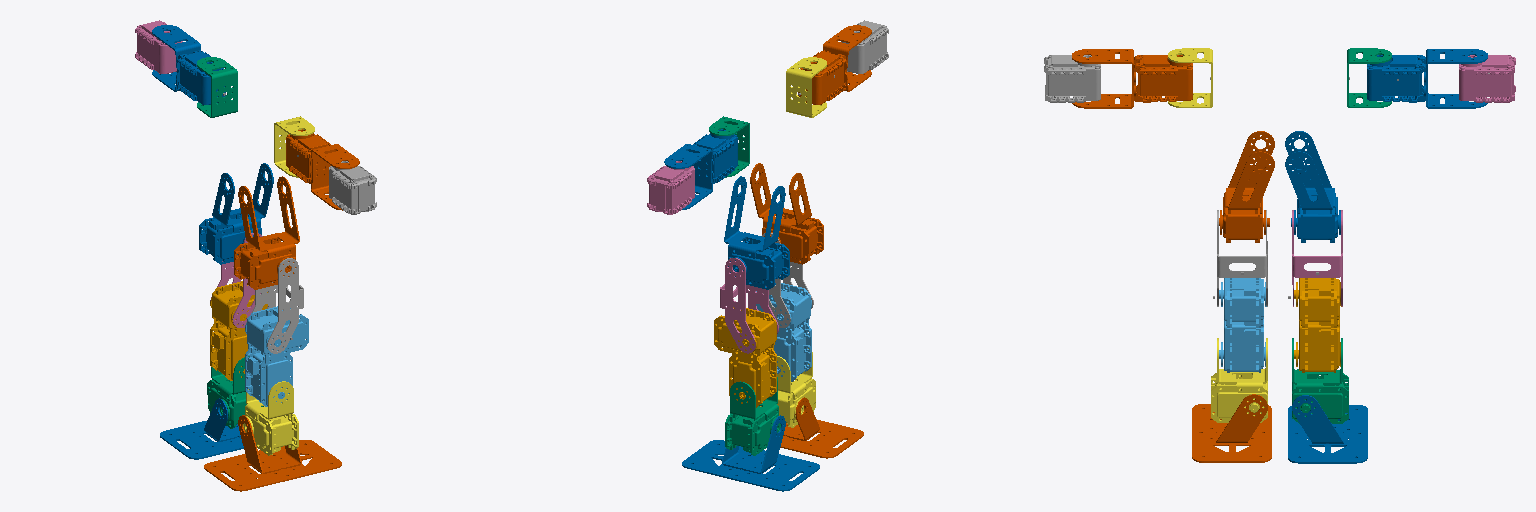
--- What the picture shows (computed from the rendered views, not written in the file) ---
3 views of the same robot in one strip: view 1: azimuth 30°, elevation 25°; view 2: azimuth 150°, elevation 25°; view 3: azimuth 270°, elevation 25° (orthographic).
Robot: nino — 26 links, 25 joints (16 revolute, 9 fixed); root link world; default pose: all joints at 0.
Links seen in each view (by area): view 1: right_foot_roll_link, right_hip_roll_link, right_knee_pitch_link, left_hip_roll_link, left_knee_pitch_link, right_shoulder_pitch_link, right_foot_pitch_link, left_shoulder_pitch_link, left_foot_roll_link, right_hip_pitch_link, right_elbow_pitch_link, left_shoulder_roll_link (+4 smaller); view 2: left_foot_roll_link, left_hip_roll_link, left_knee_pitch_link, right_hip_roll_link, left_shoulder_pitch_link, left_foot_pitch_link, right_knee_pitch_link, right_shoulder_pitch_link, right_foot_roll_link, left_hip_pitch_link, left_elbow_pitch_link, right_shoulder_roll_link (+4 smaller); view 3: left_foot_roll_link, right_foot_roll_link, right_shoulder_pitch_link, left_shoulder_pitch_link, left_knee_pitch_link, left_hip_roll_link, right_hip_roll_link, right_knee_pitch_link, left_elbow_pitch_link, right_elbow_pitch_link, left_foot_pitch_link, right_foot_pitch_link (+4 smaller).
Boxes of the visible links, x1=… form: right_foot_roll_link: x1=204, y1=415, x2=341, y2=491; right_hip_roll_link: x1=234, y1=176, x2=299, y2=289; right_knee_pitch_link: x1=245, y1=306, x2=308, y2=406; left_hip_roll_link: x1=199, y1=163, x2=273, y2=264; left_knee_pitch_link: x1=210, y1=281, x2=267, y2=380; right_shoulder_pitch_link: x1=286, y1=129, x2=359, y2=210; right_foot_pitch_link: x1=243, y1=381, x2=298, y2=455; left_shoulder_pitch_link: x1=152, y1=25, x2=225, y2=104; left_foot_roll_link: x1=160, y1=398, x2=243, y2=459; right_hip_pitch_link: x1=246, y1=258, x2=303, y2=353; right_elbow_pitch_link: x1=329, y1=161, x2=376, y2=214; left_shoulder_roll_link: x1=197, y1=57, x2=237, y2=117; left_foot_roll_link: x1=682, y1=415, x2=819, y2=491; left_hip_roll_link: x1=724, y1=176, x2=789, y2=289; left_knee_pitch_link: x1=714, y1=307, x2=776, y2=407; right_hip_roll_link: x1=750, y1=163, x2=823, y2=264; left_shoulder_pitch_link: x1=664, y1=129, x2=737, y2=209; left_foot_pitch_link: x1=725, y1=373, x2=780, y2=455; right_knee_pitch_link: x1=756, y1=283, x2=811, y2=381; right_shoulder_pitch_link: x1=798, y1=25, x2=871, y2=104; right_foot_roll_link: x1=780, y1=397, x2=863, y2=458; left_hip_pitch_link: x1=720, y1=258, x2=778, y2=353; left_elbow_pitch_link: x1=647, y1=161, x2=694, y2=214; right_shoulder_roll_link: x1=786, y1=57, x2=826, y2=117; left_foot_roll_link: x1=1288, y1=395, x2=1367, y2=463; right_foot_roll_link: x1=1192, y1=394, x2=1271, y2=462; right_shoulder_pitch_link: x1=1072, y1=49, x2=1192, y2=108; left_shoulder_pitch_link: x1=1367, y1=49, x2=1487, y2=108; left_knee_pitch_link: x1=1288, y1=278, x2=1341, y2=372; left_hip_roll_link: x1=1285, y1=131, x2=1340, y2=242; right_hip_roll_link: x1=1219, y1=131, x2=1274, y2=242; right_knee_pitch_link: x1=1213, y1=278, x2=1266, y2=372; left_elbow_pitch_link: x1=1459, y1=55, x2=1515, y2=102; right_elbow_pitch_link: x1=1044, y1=55, x2=1100, y2=102; left_foot_pitch_link: x1=1292, y1=338, x2=1348, y2=423; right_foot_pitch_link: x1=1211, y1=338, x2=1267, y2=422.
Bounding box of the posed robot: 0.1201 × 0.415 × 0.3717 m (x, y, z).
16 mesh visuals loaded from 12 distinct referenced files (11 Collada DAE); not drawn: 1 (reference not matched to a file when rendering).

The robot description file, URDF, robot "nino":
<?xml version="1.0"?>
<robot name="nino">

  <!-- Used for fixing robot to Gazebo 'base_link' -->
  <link name="world"/>

  <joint name="fixed" type="fixed">
    <parent link="world"/>
    <child link="base_link"/>
   <origin rpy="0 0 0" xyz="0 0 1"/>
  </joint>


  <link name="base_link">	
	<visual>
	   <origin xyz="0 0 0.029" rpy="1.57 0 -1.57"/>
	   <geometry>
		<mesh filename="package://nino_description/meshes/collada/torso.dae" scale="0.001 0.001 0.001"/>
 	   </geometry>
	   <material name="Red"/>
	</visual>
<collision>
   	  <geometry>
    		<cylinder length="0.03" radius="0.01"/>
          </geometry>
</collision>

 <inertial>
        <origin xyz="0 -0.012212 0.028064"/>
    	<mass value="0.34"/>
    	<inertia ixx="0.1" ixy="0" ixz="0" iyy="0.1" iyz="0" izz="0.1"/>
 </inertial>

  </link>

  <link name="left_shoulder_roll_link">
	<visual>
	   <origin xyz="0 0 -0.0274" rpy="-1.57 0 0"/>
	   <geometry>
		<mesh filename="package://nino_description/meshes/collada/ST-11-RV1.dae" scale="0.001 0.001 0.001"/>
 	   </geometry>
	   <material name="DarkGrey"/>
	</visual>
<collision>
<origin xyz="0 0 -0.08"/>
   	  <geometry>
    		<cylinder length="0.03" radius="0.01"/>
          </geometry>
</collision>

 <inertial>
	<origin xyz="0 -0.011 0"/>
    	<mass value="0.011"/>
    	<inertia ixx="0.1" ixy="0" ixz="0" iyy="0.1" iyz="0" izz="0.1"/>
 </inertial>
  </link>

 
  <link name="right_shoulder_roll_link">
	<visual>
	   <origin xyz="0 0 0.0274" rpy="1.57 0 3.14"/>
	   <geometry>
		<mesh filename="package://nino_description/meshes/collada/ST-11-RV1.dae" scale="0.001 0.001 0.001"/>
 	   </geometry>
	   <material name="DarkGrey"/>
	</visual>
<collision>
<origin xyz="0 0 0.08"/>
   	  <geometry>
    		<cylinder length="0.03" radius="0.01"/>
          </geometry>
</collision>

 <inertial>
	<origin xyz="0 -0.011 0"/>
    	<mass value="0.011"/>
    	<inertia ixx="0.1" ixy="0" ixz="0" iyy="0.1" iyz="0" izz="0.1"/>
 </inertial>
</link>


  <link name="left_shoulder_pitch_link">

<visual>
	   <origin xyz="0.01568 -0.012654 0.004478" rpy="0 1.57 -1.57"/>
	   <geometry>
	<mesh filename="package://nino_description/meshes/collada/shoulder_pitch_link.dae" scale="0.001 0.001 0.001"/>
 	   </geometry>
	   <material name="DarkGrey"/>
</visual>

<collision>
   	  <geometry>
    		<cylinder length="0.06" radius="0.02"/>
          </geometry>
</collision>

 <inertial>
	<origin xyz="-0.003204 0.007017 -0.012562"/>
    	<mass value="0.073"/>
    	<inertia ixx="0.16" ixy="0" ixz="0.000000016" iyy="0.1" iyz="0.000000076" izz="0.1"/>
 </inertial>

</link>

  <link name="right_shoulder_pitch_link">

<visual>
	   <origin xyz="0.01568 0.012654 -0.004478" rpy="0 -1.57 -1.57"/>
	   <geometry>
	<mesh filename="package://nino_description/meshes/collada/shoulder_pitch_link.dae" scale="0.001 0.001 0.001"/>
 	   </geometry>
	   <material name="DarkGrey"/>
</visual>
<collision>
   	  <geometry>
    		<cylinder length="0.06" radius="0.02"/>
          </geometry>
</collision>

 <inertial>
        <origin xyz="-0.003204 0.007017 -0.012562"/>
    	<mass value="0.073"/>
    	<inertia ixx="0.1" ixy="-0.000001662" ixz="0.000000016" iyy="0.1" iyz="0.000000076" izz="0.1"/>
 </inertial>

</link>


  <link name="left_elbow_pitch_link">
<visual>
	   <origin xyz="0.01568 0 0.004138" rpy="0 -1.57 1.57"/>
	   <geometry>
		<mesh filename="package://nino_description/meshes/collada/ax-12.dae" scale="0.001 0.001 0.001"/>
 	   </geometry>
	   <material name="DarkGrey"/>
</visual>

<collision>
   	  <geometry>
    		<cylinder length="0.06" radius="0.02"/>
          </geometry>
</collision>

 <inertial>
        <origin xyz="-0.002774 0.002536 0.000117"/>
    	<mass value="0.058"/>
    	<inertia ixx="0.1" ixy="-0.00000529156" ixz="-0.00000012797" iyy="0.1" iyz="-0.000000011641" izz="0.1"/>
 </inertial>
</link>


  <link name="right_elbow_pitch_link">
<visual>
	   <origin xyz="0.01568 0 -0.004478" rpy="0 1.57 1.57"/>
	   <geometry>
		<mesh filename="package://nino_description/meshes/collada/ax-12.dae" scale="0.001 0.001 0.001"/>
 	   </geometry>
	   <material name="DarkGrey"/>
	</visual>
<collision>
   	  <geometry>
    		<cylinder length="0.06" radius="0.02"/>
          </geometry>
</collision>

 <inertial>
        <origin xyz="-0.002774 0.002536 0.000117"/>
    	<mass value="0.058"/>
    	<inertia ixx="0.1" ixy="-0.00000529156" ixz="-0.00000012797" iyy="0.1" iyz="-0.000000011641" izz="0.1"/>
 </inertial>

</link>

 <link name="left_hand_endeffector_link"/>
  <link name="right_hand_endeffector_link"/>

<link name="left_hand_endeffector_frame_link"/>
<link name="right_hand_endeffector_frame_link"/>

  <link name="left_hip_roll_link">

        <visual>
	   <origin xyz="0.066833 0.01449 -0.00886" rpy=" -1.57 0 3.14"/>
	   <geometry>
	   <mesh filename="package://nino_description/meshes/collada/left_hip_roll_link.dae" scale="0.001 0.001 0.001"/>
 	   </geometry>
	   <material name="DarkGrey"/>
	</visual>

<collision>
   	  <geometry>
    		<cylinder length="0.06" radius="0.009"/>
          </geometry>
</collision>

 <inertial>
        <origin xyz="0.008824 -0.002922 -0.000704"/>
    	<mass value="0.088"/>
    	<inertia ixx="0.1" ixy="0.000003203" ixz="-0.000004246" iyy="0.1" iyz="0.000000843" izz="0.1"/>
 </inertial>

</link>


  <link name="right_hip_roll_link">

              <visual>
	   <origin xyz="0.061161 -0.015704 -0.00886" rpy=" -1.57 0 0"/>
	   <geometry>
	   <mesh filename="package://nino_description/meshes/collada/right_hip_roll_link.dae" scale="0.001 0.001 0.001"/>
 	   </geometry>
	   <material name="DarkGrey"/>
	</visual>

<collision>
   	  <geometry>
    		<cylinder length="0.06" radius="0.009"/>
          </geometry>
</collision>

 <inertial>
        <origin xyz="-0.003153 -0.002922 0.000926"/>
    	<mass value="0.088"/>
    	<inertia ixx="0.1" ixy="-0.000003203" ixz="0.000004246" iyy="0.1" iyz="0.000000843" izz="0.1"/>
 </inertial>
</link>


  <link name="left_hip_pitch_link">
        <visual>
	   <origin xyz="0.041011 -0.018297 0" rpy=" 0 3.14 0"/>
	   <geometry>
	   <mesh filename="package://nino_description/meshes/collada/ST-13-RV4.dae" scale="0.001 0.001 0.001"/>
 	   </geometry>
	   <material name="DarkGrey"/>
	</visual>
<collision>
   	  <geometry>
    		<cylinder length="0.06" radius="0.02"/>
          </geometry>
</collision>

 <inertial>
        <origin xyz="0.003389 0.016729 0"/>
    	<mass value="0.018"/>
    	<inertia ixx="0.1" ixy="0.000001306" ixz="0" iyy="0.1" iyz="0" izz="0.1"/>
 </inertial>
</link>


  <link name="right_hip_pitch_link">
  <visual>
	   <origin xyz="0.041011 -0.018297 0" rpy=" 0 3.14 0"/>
	   <geometry>
	   <mesh filename="package://nino_description/meshes/collada/ST-13-RV4.dae" scale="0.001 0.001 0.001"/>
 	   </geometry>
	   <material name="DarkGrey"/>
	</visual>

<collision>
   	  <geometry>
    		<cylinder length="0.06" radius="0.02"/>
          </geometry>
</collision>

 <inertial>
        <origin xyz="0.003389 0.016729 0"/>
    	<mass value="0.018"/>
    	<inertia ixx="0.1" ixy="0.000001306" ixz="0" iyy="0.1" iyz="0" izz="0.1"/>
 </inertial>

</link>


  <link name="left_knee_pitch_link">

<visual>
	   <origin xyz="-0.002836 -0.01297 -0.024736" rpy=" 3.14 0 0"/>
	   <geometry>
	   <mesh filename="package://nino_description/meshes/collada/knee_link.dae" scale="0.001 0.001 0.001"/>
 	   </geometry>
	   <material name="DarkGrey"/>
	</visual>
<collision>
   	  <geometry>
    		<cylinder length="0.06" radius="0.02"/>
          </geometry>
</collision>

 <inertial>
        <origin xyz="0.025432 -0.005388 -0.026434"/>
    	<mass value="0.0149"/>
    	<inertia ixx="0.1" ixy="0.000012048" ixz="0.000000311" iyy="0.1" iyz="0.000000311" izz="0.1"/>
 </inertial>


</link>

  <link name="right_knee_pitch_link">

<visual>
	   <origin xyz="-0.002836 -0.01297 -0.024736" rpy=" 3.14 0 0"/>
	   <geometry>
	   <mesh filename="package://nino_description/meshes/collada/knee_link.dae" scale="0.001 0.001 0.001"/>
 	   </geometry>
	   <material name="DarkGrey"/>
	</visual>
<collision>
   	  <geometry>
    		<cylinder length="0.06" radius="0.02"/>
          </geometry>
</collision>

 <inertial>
        <origin xyz="0.025432 -0.005388 -0.026434"/>
    	<mass value="0.0149"/>
    	<inertia ixx="0.1" ixy="0.000012048" ixz="0.000000311" iyy="0.1" iyz="0.000000311" izz="0.1"/>
 </inertial>

</link>


  <link name="left_foot_pitch_link">

<visual>
	   <origin xyz="0.039468 -0.002175 0.00247" rpy=" 1.57 0 0"/>
	   <geometry>
	   <mesh filename="package://nino_description/meshes/collada/left_foot_pitch_link.dae" scale="0.001 0.001 0.001"/>
 	   </geometry>
	   <material name="DarkGrey"/>
	</visual>
<collision>
   	  <geometry>
    		<cylinder length="0.06" radius="0.02"/>
          </geometry>
</collision>

 <inertial>
        <origin xyz="-0.001266 -0.001930 -0.001767"/>
    	<mass value="0.086"/>
    	<inertia ixx="0.1" ixy="-0.0000000362" ixz="-0.0000000144" iyy="0.1" iyz="0.0000000303" izz="0.1"/>
 </inertial>

</link>


  <link name="right_foot_pitch_link">
<visual>
	   <origin xyz="0.045139 -0.002175 -0.00247" rpy=" -1.57 0 3.14"/>
	   <geometry>
	   <mesh filename="package://nino_description/meshes/collada/right_foot_pitch_link.dae" scale="0.001 0.001 0.001"/>
 	   </geometry>
	   <material name="DarkGrey"/>
	</visual>

<collision>
   	  <geometry>
    		<cylinder length="0.06" radius="0.02"/>
          </geometry>
</collision>

 <inertial>
        <origin xyz="0.006937 -0.001930 -0.001767"/>
    	<mass value="0.086"/>
    	<inertia ixx="0.1" ixy="0.0000000362" ixz="0.0000000144" iyy="0.1" iyz="0.0000000303" izz="0.1"/>
 </inertial>
</link>

  <link name="left_foot_roll_link">
<visual>
	   <origin xyz="0.0357 0.01963 0" rpy="0 -1.57 -1.57"/>
	   <geometry>
	   <mesh filename="package://nino_description/meshes/collada/left_foot_roll_link.dae" scale="0.001 0.001 0.001"/>
 	   </geometry>
	   <material name="DarkGrey"/>
	</visual>

<collision>
   	  <geometry>
    		<cylinder length="0.06" radius="0.02"/>
          </geometry>
</collision>

 <inertial>
        <origin xyz="-0.000904 -0.007296 -0.003738"/>
    	<mass value="0.025"/>
    	<inertia ixx="0.1" ixy="0.000000180" ixz="0.000000084" iyy="0.1" iyz="-0.000001971" izz="0.1"/>
 </inertial>


</link>

  <link name="right_foot_roll_link">

<visual>
	   <origin xyz="0.0357 -0.018923 0" rpy="0 1.57 -1.57"/>
	   <geometry>
	   <mesh filename="package://nino_description/meshes/collada/right_foot_roll_link.dae" scale="0.001 0.001 0.001"/>

 	   </geometry>
	   <material name="DarkGrey"/>
	</visual>
<collision>
   	  <geometry>
    		<cylinder length="0.06" radius="0.02"/>
          </geometry>
</collision>

 <inertial>
        <origin xyz="0.000904 -0.007296 -0.003031"/>
    	<mass value="0.025"/>
    	<inertia ixx="0.1" ixy="-0.000000180" ixz="-0.000000084" iyy="0.1" iyz="-0.000001971" izz="0.1"/>
 </inertial>


</link>

  <link name="left_foot_endeffector_link"/>

 <link name="right_foot_endeffector_link"/>  

  <link name="left_foot_endeffector_frame_link"/>
  <link name="right_foot_endeffector_frame_link"/>


  <joint name="left_shoulder_roll_joint" type="revolute">
    <parent link="base_link"/>
    <child link="left_shoulder_roll_link"/>
    <origin rpy="0 1.57 1.57" xyz="0 0.088 0.0488"/>
    <axis xyz="0 0 1" />
    <limit effort="30" velocity="0.1" lower="-1.57" upper="1.57"/>
    <dynamics damping="5" friction="1"/>
  </joint>


  <joint name="right_shoulder_roll_joint" type="revolute">
    <parent link="base_link"/>
    <child link="right_shoulder_roll_link"/>
    <origin rpy="0 1.57 1.57" xyz="0 -0.088 0.0488"/>
    <axis xyz="0 0 1" />
    <limit effort="300" velocity="0.1" lower="-1.57" upper="1.57"/>
    <dynamics damping="50" friction="1"/>
  </joint>


<joint name="left_shoulder_pitch_joint" type="revolute">
    <parent link="left_shoulder_roll_link"/>
    <child link="left_shoulder_pitch_link"/>
    <origin rpy="0 -1.57 0" xyz="0 0 0"/>
    <axis xyz="0 0 1" />
    <limit effort="300" velocity="0.1" lower="-1.57" upper="1.57"/>
    <dynamics damping="50" friction="1"/>
  </joint>


  <joint name="right_shoulder_pitch_joint" type="revolute">
    <parent link="right_shoulder_roll_link"/>
    <child link="right_shoulder_pitch_link"/>
    <origin rpy="0 1.57 0" xyz="0 0 0"/>
    <axis xyz="0 0 1" />
    <limit effort="300" velocity="0.1" lower="-1.57" upper="1.57"/>
    <dynamics damping="50" friction="1"/>
  </joint>

<joint name="left_elbow_pitch_joint" type="revolute">
    <parent link="left_shoulder_pitch_link"/>
    <child link="left_elbow_pitch_link"/>
    <origin rpy="0 0 0" xyz="0.081 0 0"/>
    <axis xyz="0 0 1" />
    <limit effort="300" velocity="0.1" lower="-1.57" upper="1.57"/>
    <dynamics damping="50" friction="1"/>
  </joint>


  <joint name="right_elbow_pitch_joint" type="revolute">
    <parent link="right_shoulder_pitch_link"/>
    <child link="right_elbow_pitch_link"/>
    <origin rpy="0 0 0" xyz="0.081 0 0"/>
    <axis xyz="0 0 1" />
    <limit effort="300" velocity="0.1" lower="-1.57" upper="1.57"/>
    <dynamics damping="50" friction="1"/>
  </joint>

<joint name="left_hand_endeffector_joint" type="fixed">
    <parent link="left_elbow_pitch_link"/>
    <child link="left_hand_endeffector_link"/>
    <origin rpy="0 0 0" xyz="0.097 0 0"/>
     </joint>


<joint name="right_hand_endeffector_joint" type="fixed">
    <parent link="right_elbow_pitch_link"/>
    <child link="right_hand_endeffector_link"/>
    <origin rpy="0 0 0" xyz="0.097 0 0"/>
     </joint>

<joint name="left_hand_endeffector_frame" type="fixed">
    <parent link="left_hand_endeffector_link"/>
    <child link="left_hand_endeffector_frame_link"/>
    <origin rpy="0 0 -1.57" xyz="0 0 0"/>
     </joint>


<joint name="right_hand_endeffector_frame" type="fixed">
    <parent link="right_hand_endeffector_link"/>
    <child link="right_hand_endeffector_frame_link"/>
    <origin rpy="3.14 0 -1.57" xyz="0 0 0"/>
     </joint>


<!-- Upper Body Ends Here-->

  <joint name="left_hip_roll_joint" type="revolute">
    <parent link="base_link"/>
    <child link="left_hip_roll_link"/>
    <origin rpy="0 1.57 0" xyz="0 0.017 -0.025"/>
    <axis xyz="0 0 1" />
    <limit effort="300" velocity="0.1" lower="-1.57" upper="1.57"/>
    <dynamics damping="50" friction="1"/>
  </joint>

 
  <joint name="right_hip_roll_joint" type="revolute">
    <parent link="base_link"/>
    <child link="right_hip_roll_link"/>
    <origin rpy="0 1.57 0" xyz="0 -0.017 -0.025"/>
    <axis xyz="0 0 1" />
    <limit effort="300" velocity="0.1" lower="-1.57" upper="1.57"/>
    <dynamics damping="50" friction="1"/>
  </joint>


<joint name="left_hip_pitch_joint" type="revolute">
    <parent link="left_hip_roll_link"/>
    <child link="left_hip_pitch_link"/>
    <origin rpy="-1.57 0 0" xyz="0.0644 0.0161 0.004"/>
    <axis xyz="0 0 1" />
    <limit effort="300" velocity="0.1" lower="-1.57" upper="1.57"/>
    <dynamics damping="50" friction="1"/>
  </joint>


  <joint name="right_hip_pitch_joint" type="revolute">
    <parent link="right_hip_roll_link"/>
    <child link="right_hip_pitch_link"/>
    <origin rpy="-1.57 0 0" xyz="0.0644 -0.0161 0.004"/>
    <axis xyz="0 0 1" />
    <limit effort="300" velocity="0.1" lower="-1.57" upper="1.57"/>
    <dynamics damping="50" friction="1"/>
  </joint>

 <joint name="left_knee_pitch_joint" type="revolute">
    <parent link="left_hip_pitch_link"/>
    <child link="left_knee_pitch_link"/>
    <origin rpy="0 0 0" xyz="0.075011 0.011703 0"/>
    <axis xyz="0 0 1" />
    <limit effort="300" velocity="0.1" lower="-1.57" upper="1.57"/>
    <dynamics damping="50" friction="1"/>
  </joint>

 
  <joint name="right_knee_pitch_joint" type="revolute">
    <parent link="right_hip_pitch_link"/>
    <child link="right_knee_pitch_link"/>
    <origin rpy="0 0 0" xyz="0.075011 0.011703 0"/>
    <axis xyz="0 0 1" />
    <limit effort="300" velocity="0.1" lower="-1.57" upper="1.57"/>
    <dynamics damping="50" friction="1"/>
  </joint>

<joint name="left_foot_pitch_joint" type="revolute">
    <parent link="left_knee_pitch_link"/>
    <child link="left_foot_pitch_link"/>
    <origin xyz="0.05660 -0.004 0"/>
    <axis xyz="0 0 1" />
    <limit effort="300" velocity="0.1" lower="-1.57" upper="1.57"/>
    <dynamics damping="50" friction="1"/>
  </joint>

 
  <joint name="right_foot_pitch_joint" type="revolute">
    <parent link="right_knee_pitch_link"/>
    <child link="right_foot_pitch_link"/>
    <origin xyz="0.056 -0.004 0"/>
    <axis xyz="0 0 1" />
    <limit effort="300" velocity="0.1" lower="-1.57" upper="1.57"/>
    <dynamics damping="50" friction="1"/>
  </joint>

 <joint name="left_foot_roll_joint" type="revolute">
    <parent link="left_foot_pitch_link"/>
    <child link="left_foot_roll_link"/>
    <origin rpy="1.57 0 0" xyz="0.042 0 -0.0105"/>
    <axis xyz="0 0 1" />
    <limit effort="300" velocity="0.1" lower="-1.57" upper="1.57"/>
    <dynamics damping="50" friction="1"/>
  </joint>

 
  <joint name="right_foot_roll_joint" type="revolute">
    <parent link="right_foot_pitch_link"/>
    <child link="right_foot_roll_link"/>
    <origin rpy="1.57 0 0" xyz="0.042 0 0.0105"/>
    <axis xyz="0 0 1" />
    <limit effort="300" velocity="0.1" lower="-1.57" upper="1.57"/>
    <dynamics damping="50" friction="1"/>
  </joint>

  <joint name="left_foot_endeffector" type="fixed">
    <parent link="left_foot_roll_link"/>
    <child link="left_foot_endeffector_link"/>
    <origin rpy="0 0 0" xyz="0.036 0.010 0"/>
    </joint>

 
  <joint name="right_foot_endeffector" type="fixed">
    <parent link="right_foot_roll_link"/>
    <child link="right_foot_endeffector_link"/>
    <origin rpy="0 0 0" xyz="0.036 -0.010 0"/>
    </joint>

 <joint name="left_foot_endeffector_frame" type="fixed">
    <parent link="left_foot_endeffector_link"/>
    <child link="left_foot_endeffector_frame_link"/>
    <origin rpy="0 -1.57 0" xyz="0 0 0"/>
    </joint>

 
  <joint name="right_foot_endeffector_frame" type="fixed">
    <parent link="right_foot_endeffector_link"/>
    <child link="right_foot_endeffector_frame_link"/>
    <origin rpy="0 -1.57 0" xyz="0 0 0"/>
    </joint>

<transmission name="left_shoulder_roll_joint_tran">
    <type>transmission_interface/SimpleTransmission</type>
    <joint name="left_shoulder_roll_joint">
      <hardwareInterface>EffortJointInterface</hardwareInterface>
    </joint>
    <actuator name="left_shoulder_roll_joint_motor">
      <hardwareInterface>EffortJointInterface</hardwareInterface>
      <mechanicalReduction>1</mechanicalReduction>
    </actuator>
</transmission>

<transmission name="right_shoulder_roll_joint_tran">
    <type>transmission_interface/SimpleTransmission</type>
    <joint name="right_shoulder_roll_joint">
      <hardwareInterface>EffortJointInterface</hardwareInterface>
    </joint>
    <actuator name="right_shoulder_roll_joint_motor">
      <hardwareInterface>EffortJointInterface</hardwareInterface>
      <mechanicalReduction>1</mechanicalReduction>
    </actuator>
</transmission>


<transmission name="left_shoulder_pitch_joint_tran">
    <type>transmission_interface/SimpleTransmission</type>
    <joint name="left_shoulder_pitch_joint">
      <hardwareInterface>EffortJointInterface</hardwareInterface>
    </joint>
    <actuator name="left_shoulder_pitch_joint_motor">
      <hardwareInterface>EffortJointInterface</hardwareInterface>
      <mechanicalReduction>1</mechanicalReduction>
    </actuator>
</transmission>

<transmission name="right_shoulder_pitch_joint_tran">
    <type>transmission_interface/SimpleTransmission</type>
    <joint name="right_shoulder_pitch_joint">
      <hardwareInterface>EffortJointInterface</hardwareInterface>
    </joint>
    <actuator name="right_shoulder_pitch_joint_motor">
      <hardwareInterface>EffortJointInterface</hardwareInterface>
      <mechanicalReduction>1</mechanicalReduction>
    </actuator>
</transmission>

<transmission name="left_elbow_pitch_joint_tran">
    <type>transmission_interface/SimpleTransmission</type>
    <joint name="left_elbow_pitch_joint">
      <hardwareInterface>EffortJointInterface</hardwareInterface>
    </joint>
    <actuator name="left_elbow_pitch_joint_motor">
      <hardwareInterface>EffortJointInterface</hardwareInterface>
      <mechanicalReduction>1</mechanicalReduction>
    </actuator>
</transmission>

<transmission name="right_elbow_pitch_joint_tran">
    <type>transmission_interface/SimpleTransmission</type>
    <joint name="right_elbow_pitch_joint">
      <hardwareInterface>EffortJointInterface</hardwareInterface>
    </joint>
    <actuator name="right_elbow_pitch_joint_motor">
      <hardwareInterface>EffortJointInterface</hardwareInterface>
      <mechanicalReduction>1</mechanicalReduction>
    </actuator>
</transmission>

<transmission name="left_hip_roll_joint_tran">
    <type>transmission_interface/SimpleTransmission</type>
    <joint name="left_hip_roll_joint">
      <hardwareInterface>EffortJointInterface</hardwareInterface>
    </joint>
    <actuator name="left_hip_roll_joint_motor">
      <hardwareInterface>EffortJointInterface</hardwareInterface>
      <mechanicalReduction>1</mechanicalReduction>
    </actuator>
</transmission>

<transmission name="right_hip_roll_joint_tran">
    <type>transmission_interface/SimpleTransmission</type>
    <joint name="right_hip_roll_joint">
      <hardwareInterface>EffortJointInterface</hardwareInterface>
    </joint>
    <actuator name="right_hip_roll_joint_motor">
      <hardwareInterface>EffortJointInterface</hardwareInterface>
      <mechanicalReduction>1</mechanicalReduction>
    </actuator>
</transmission>


<transmission name="left_hip_pitch_joint_tran">
    <type>transmission_interface/SimpleTransmission</type>
    <joint name="left_hip_pitch_joint">
      <hardwareInterface>EffortJointInterface</hardwareInterface>
    </joint>
    <actuator name="left_hip_pitch_joint_motor">
      <hardwareInterface>EffortJointInterface</hardwareInterface>
      <mechanicalReduction>1</mechanicalReduction>
    </actuator>
</transmission>

<transmission name="right_hip_pitch_joint_tran">
    <type>transmission_interface/SimpleTransmission</type>
    <joint name="right_hip_pitch_joint">
      <hardwareInterface>EffortJointInterface</hardwareInterface>
    </joint>
    <actuator name="right_hip_pitch_joint_motor">
      <hardwareInterface>EffortJointInterface</hardwareInterface>
      <mechanicalReduction>1</mechanicalReduction>
    </actuator>
</transmission>

<transmission name="left_knee_pitch_joint_tran">
    <type>transmission_interface/SimpleTransmission</type>
    <joint name="left_knee_pitch_joint">
      <hardwareInterface>EffortJointInterface</hardwareInterface>
    </joint>
    <actuator name="left_knee_pitch_joint_motor">
      <hardwareInterface>EffortJointInterface</hardwareInterface>
      <mechanicalReduction>1</mechanicalReduction>
    </actuator>
</transmission>

<transmission name="right_knee_pitch_joint_tran">
    <type>transmission_interface/SimpleTransmission</type>
    <joint name="right_knee_pitch_joint">
      <hardwareInterface>EffortJointInterface</hardwareInterface>
    </joint>
    <actuator name="right_knee_pitch_joint_motor">
      <hardwareInterface>EffortJointInterface</hardwareInterface>
      <mechanicalReduction>1</mechanicalReduction>
    </actuator>
</transmission>

<transmission name="left_foot_pitch_joint_tran">
    <type>transmission_interface/SimpleTransmission</type>
    <joint name="left_foot_pitch_joint">
      <hardwareInterface>EffortJointInterface</hardwareInterface>
    </joint>
    <actuator name="left_foot_pitch_joint_motor">
      <hardwareInterface>EffortJointInterface</hardwareInterface>
      <mechanicalReduction>1</mechanicalReduction>
    </actuator>
</transmission>

<transmission name="right_foot_pitch_joint_tran">
    <type>transmission_interface/SimpleTransmission</type>
    <joint name="right_foot_pitch_joint">
      <hardwareInterface>EffortJointInterface</hardwareInterface>
    </joint>
    <actuator name="right_foot_pitch_joint_motor">
      <hardwareInterface>EffortJointInterface</hardwareInterface>
      <mechanicalReduction>1</mechanicalReduction>
    </actuator>
</transmission>

<transmission name="left_foot_roll_joint_tran">
    <type>transmission_interface/SimpleTransmission</type>
    <joint name="left_foot_roll_joint">
      <hardwareInterface>EffortJointInterface</hardwareInterface>
    </joint>
    <actuator name="left_foot_roll_joint_motor">
      <hardwareInterface>EffortJointInterface</hardwareInterface>
      <mechanicalReduction>1</mechanicalReduction>
    </actuator>
</transmission>

<transmission name="right_foot_roll_joint_tran">
    <type>transmission_interface/SimpleTransmission</type>
    <joint name="right_foot_roll_joint">
      <hardwareInterface>EffortJointInterface</hardwareInterface>
    </joint>
    <actuator name="right_foot_roll_joint_motor">
      <hardwareInterface>EffortJointInterface</hardwareInterface>
      <mechanicalReduction>1</mechanicalReduction>
    </actuator>
</transmission>


</robot>
